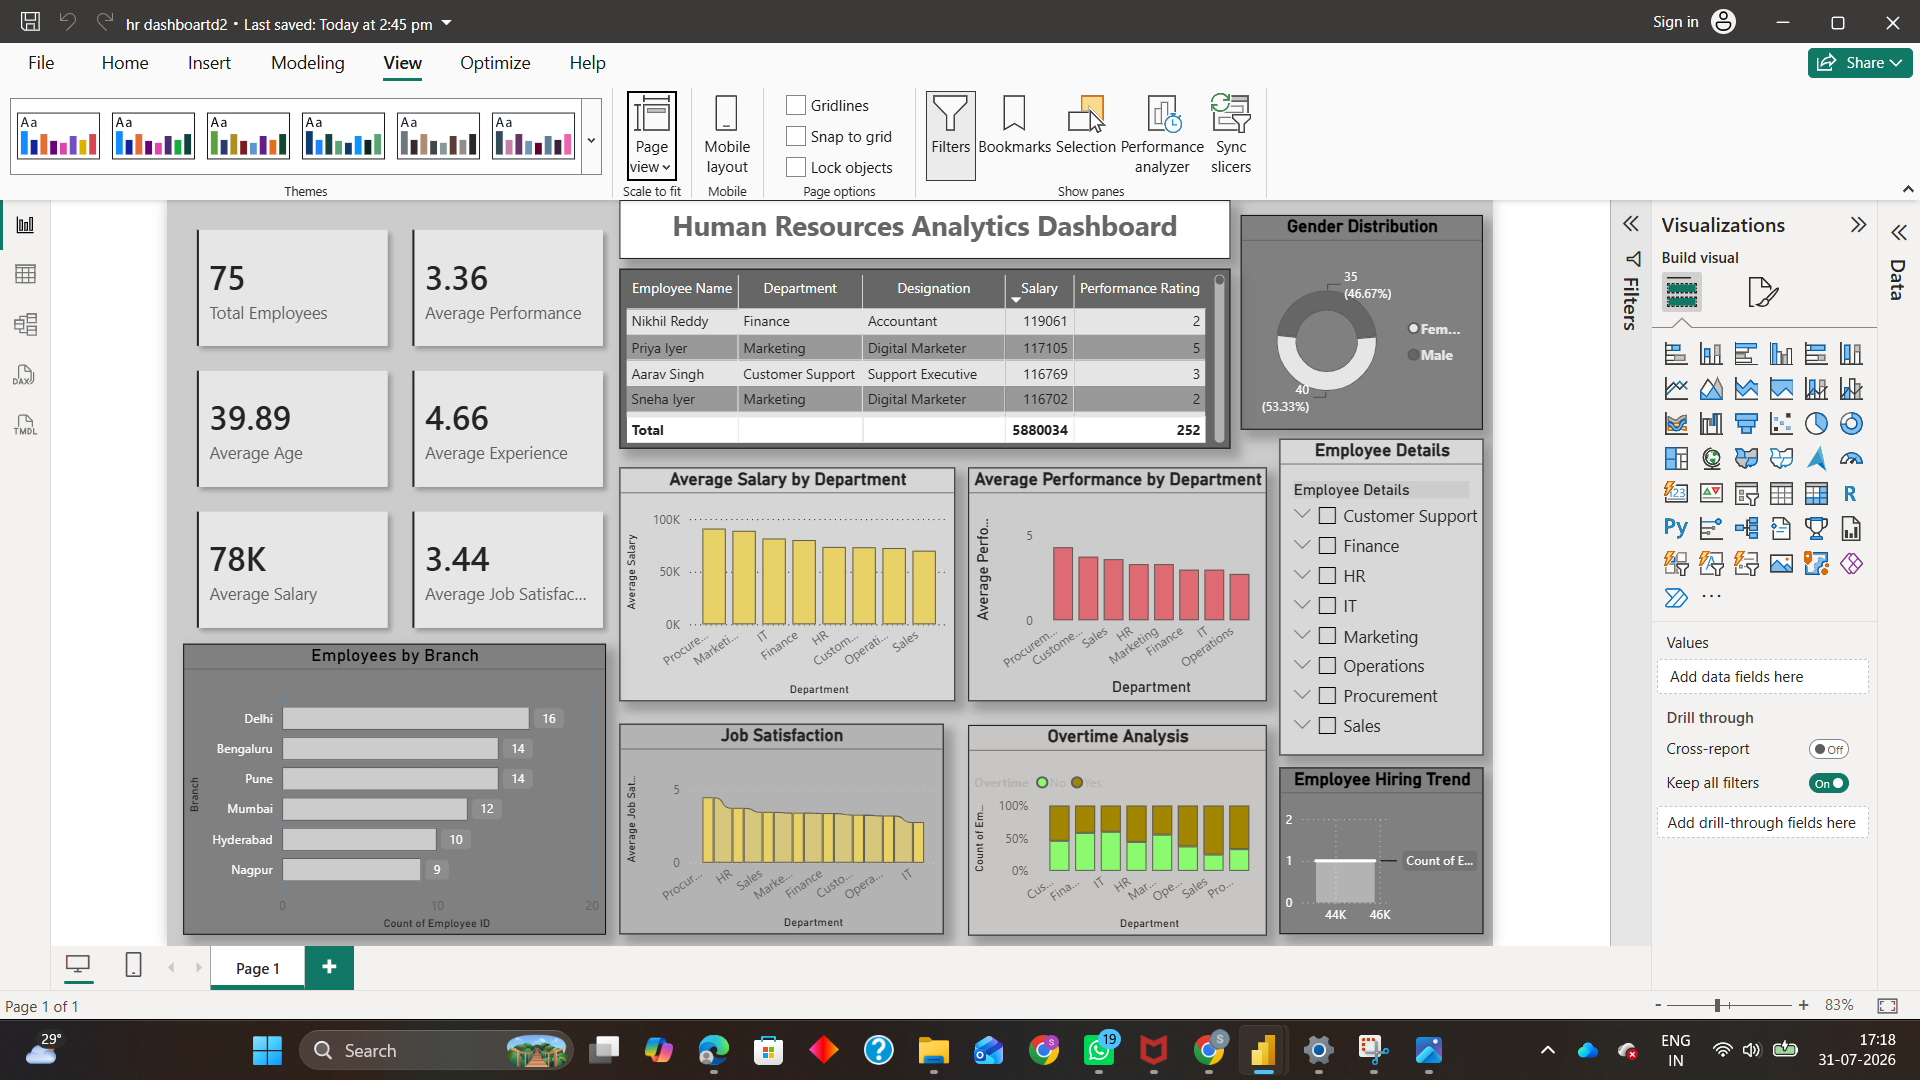

The dashboard page shown, as its layout file describes it:
{"tool":"powerbi","page":{"name":"Page 1","canvas":[1280,720],"ordinal":0},"visuals":[{"type":"cardVisual","fields":{"Data":["Employees.Total Employees","Employees.Average Performance","Employees.Average Age","Employees.Average Experience","Employees.Average Salary","Employees.Average Job Satisfaction"]},"box":[0,0,451.2,442.8],"z":1000},{"type":"textbox","box":[436.9,0,589.9,57],"z":7000},{"type":"donutChart","title":"Gender Distribution","fields":{"Category":["Employees.Gender"],"Y":["CountNonNull(Employees.Employee ID)"]},"box":[1036.5,13.9,233.7,207.3],"z":8000},{"type":"clusteredColumnChart","fields":{"Category":["Employees.Department"],"Y":["Employees.Average Salary"]},"box":[436.2,257.9,323.9,225.6],"z":9000},{"type":"clusteredBarChart","title":"Employees by Branch","fields":{"Category":["Employees.Branch"],"Y":["CountNonNull(Employees.Employee ID)"]},"box":[15.3,428.5,407.7,281],"z":10000},{"type":"clusteredColumnChart","fields":{"Category":["Employees.Department"],"Y":["Employees.Average Performance"]},"box":[773.8,257.9,287.9,225.6],"z":11000},{"type":"ribbonChart","title":"Job Satisfaction","fields":{"Category":["Employees.Department"],"Y":["Employees.Average Job Satisfaction"]},"box":[436.2,505.1,312.8,203.5],"z":12000},{"type":"hundredPercentStackedColumnChart","title":"Overtime Analysis","fields":{"Category":["Employees.Department"],"Series":["Employees.Overtime"],"Y":["CountNonNull(Employees.Employee ID)"]},"box":[773.8,506.4,288,203],"z":13000},{"type":"tableEx","fields":{"Values":["Employees.Employee Name","Employees.Department","Employees.Designation","Sum(Employees.Salary (₹/Month))","Sum(Employees.Performance Rating)"]},"box":[436.9,66.8,589.9,173.9],"z":14000},{"type":"slicer","title":"Employee Details","fields":{"Values":["Employees.Department","Employees.Branch","Employees.Gender","Employees.Employment Type","Employees.Manager"]},"box":[1073.6,230.9,197.2,305.2],"z":15000},{"type":"lineChart","title":"Employee Hiring Trend","fields":{"Category":["Employees.Date of Joining"],"Y":["CountNonNull(Employees.Employee ID)"]},"box":[1073.6,548.3,197.2,160.7],"z":16000}]}

Visuals, with their boxes on the page's 1280x720 design canvas (x1, y1, x2, y2). These are canvas units, not pixel positions in the 1920x1080 screenshot, which may show the page scaled, cropped or inside an application window:
cardVisual - Employees.Total Employees x Employees.Average Performance: [0,0,451,443]
textbox: [437,0,1027,57]
"Gender Distribution" donutChart: [1036,14,1270,221]
clusteredColumnChart - Employees.Department x Employees.Average Salary: [436,258,760,484]
"Employees by Branch" clusteredBarChart: [15,428,423,710]
clusteredColumnChart - Employees.Department x Employees.Average Performance: [774,258,1062,484]
"Job Satisfaction" ribbonChart: [436,505,749,709]
"Overtime Analysis" hundredPercentStackedColumnChart: [774,506,1062,709]
tableEx - Employees.Employee Name x Employees.Department: [437,67,1027,241]
"Employee Details" slicer: [1074,231,1271,536]
"Employee Hiring Trend" lineChart: [1074,548,1271,709]
